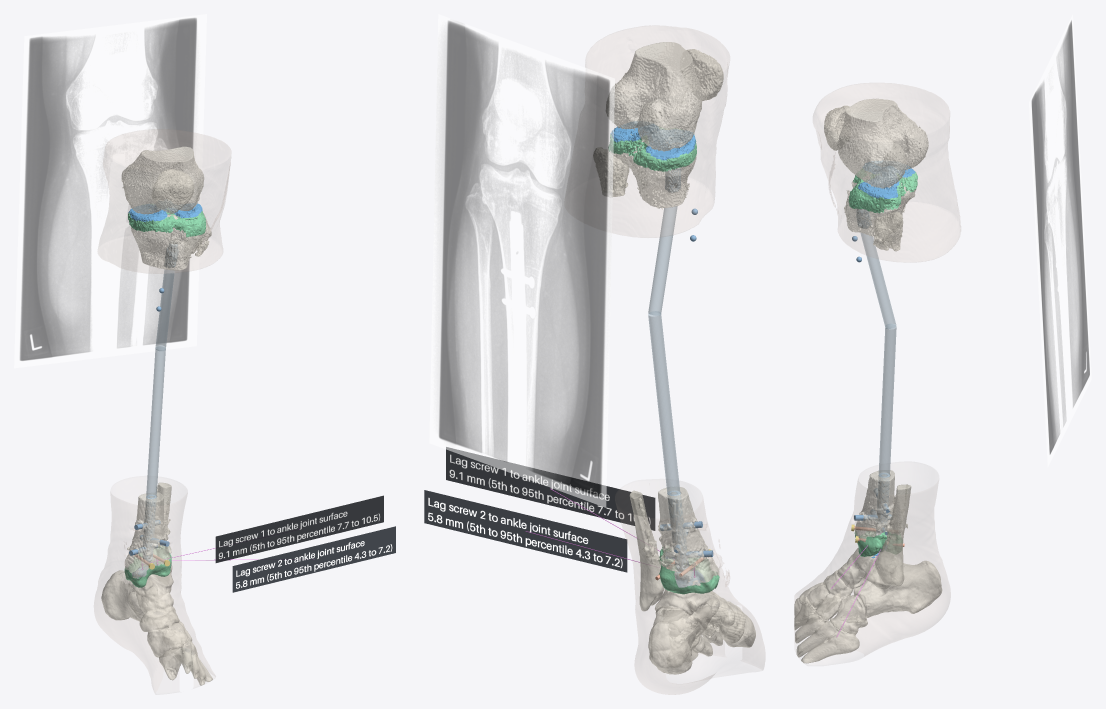
3 views of the same model, side by side, from view 1: azimuth 30°, elevation 25°; view 2: azimuth 150°, elevation 25°; view 3: azimuth 270°, elevation 25° (orthographic). The views are drawn at different scales.
Parts seen in each view (by area): view 1: radiograph, skin, implant_8, tibia, implant_16, tarsal, femur, nail_modelled, patella, metatarsal, capsule_band_knee, nail (+3 smaller); view 2: radiograph, skin, femur, implant_17, implant_9, tibia, tarsal, nail_modelled, fibula, articular_surface_knee, capsule_band_knee, nail (+3 smaller); view 3: radiograph, skin, tarsal, femur, fibula, tibia, nail_modelled, metatarsal, capsule_band_knee, articular_surface_knee, nail, capsule_band_ankle (+1 smaller).
Boxes of the visible parts, box(x1,y1,x2,y2) form: radiograph: box(14, 14, 206, 368); skin: box(94, 129, 230, 693); implant_8: box(215, 495, 383, 562); tibia: box(125, 211, 204, 587); implant_16: box(232, 526, 395, 592); tarsal: box(101, 567, 192, 657); femur: box(121, 146, 204, 214); nail_modelled: box(146, 269, 174, 498); patella: box(151, 169, 194, 213); metatarsal: box(159, 640, 212, 685); capsule_band_knee: box(128, 208, 205, 237); nail: box(142, 241, 178, 561); radiograph: box(429, 14, 614, 507); skin: box(585, 26, 764, 694); femur: box(606, 42, 702, 151); implant_17: box(424, 490, 627, 572); implant_9: box(446, 447, 655, 530); tibia: box(608, 134, 719, 593); tarsal: box(648, 571, 745, 674); nail_modelled: box(648, 206, 680, 495); fibula: box(593, 147, 664, 611); articular_surface_knee: box(610, 121, 695, 160); capsule_band_knee: box(608, 128, 696, 171); nail: box(665, 167, 688, 571); radiograph: box(1029, 15, 1091, 466); skin: box(795, 83, 960, 656); tarsal: box(799, 547, 942, 634); femur: box(837, 98, 928, 188); fibula: box(873, 211, 911, 586); tibia: box(844, 177, 916, 556); nail_modelled: box(860, 233, 896, 477); metatarsal: box(794, 597, 859, 663); capsule_band_knee: box(848, 168, 917, 213); articular_surface_knee: box(858, 161, 915, 198); nail: box(856, 209, 889, 535); capsule_band_ankle: box(854, 531, 902, 556).
Size of the model in its own units: 0.2898 by 0.5964 by 0.2613.
15 materials, 3 textured.
